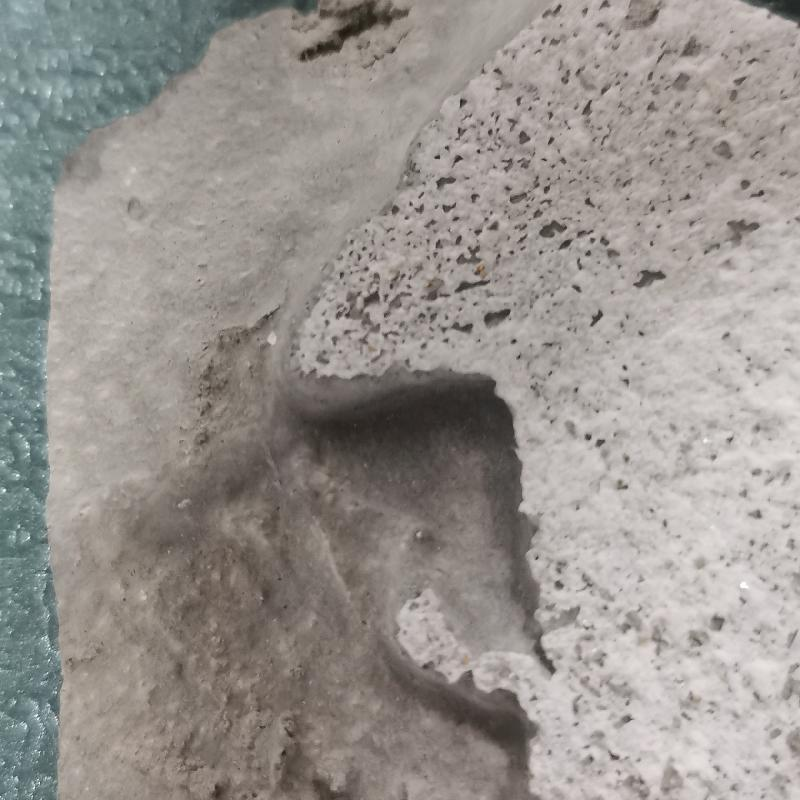tile: (47, 0, 800, 799)
